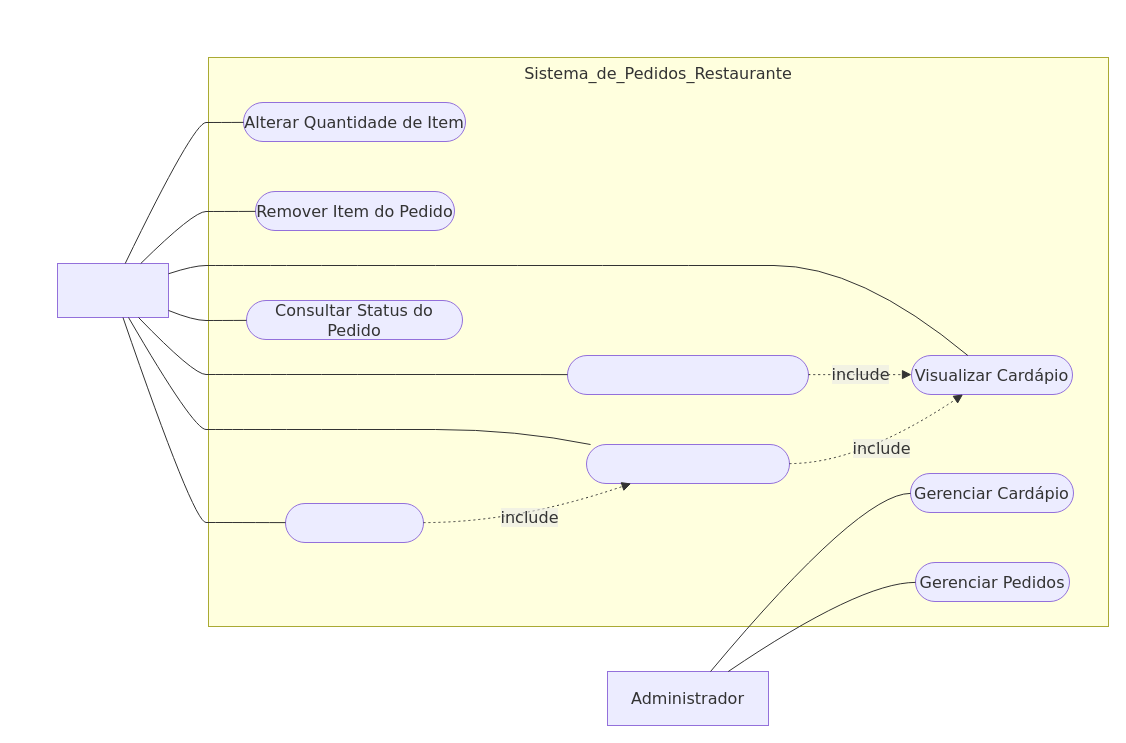
Some shapes in this 1126 by 743 pixel diagram are drawn without their labels. The shapes that lost their labels are listed below. From the top down, each one's box as (x1, y1, x2, y2) in pixels, then its label:
(56, 262, 168, 318): Cliente
(566, 354, 808, 394): Consultar Detalhes do Produto
(586, 444, 790, 484): Adicionar Item ao Pedido
(284, 502, 424, 542): Finalizar Pedido
